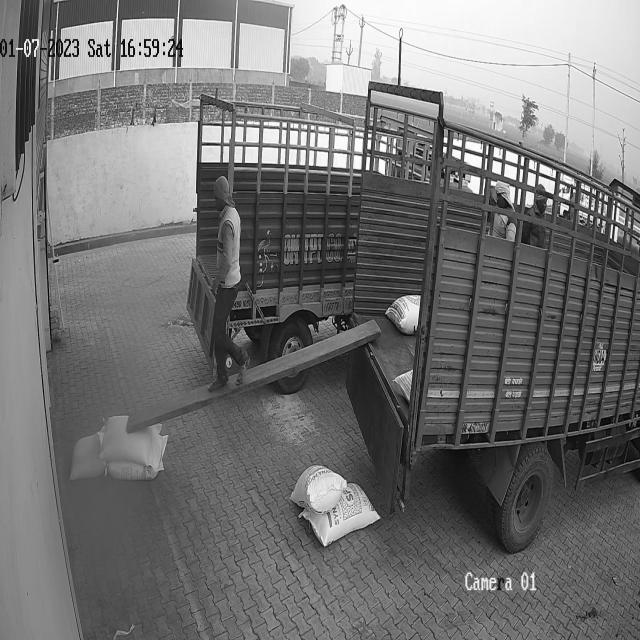sack: (299, 481, 380, 545), (98, 414, 162, 467), (290, 465, 346, 513), (107, 434, 167, 478), (68, 429, 104, 481)
